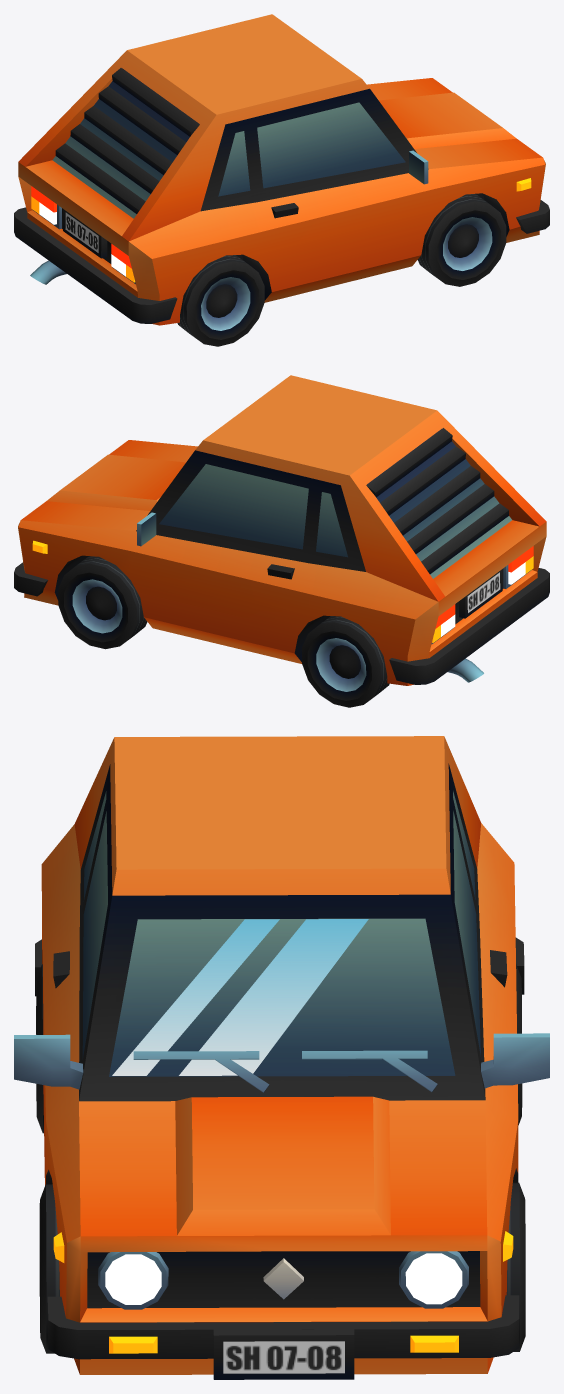
3 renders of one model, top to bottom at view 1: azimuth 30°, elevation 25°; view 2: azimuth 150°, elevation 25°; view 3: azimuth 270°, elevation 25°, orthographic. The views are drawn at different scales.
Visible parts, largest first — view 1: SHTV_Model_Car_Hatchback; view 2: SHTV_Model_Car_Hatchback; view 3: SHTV_Model_Car_Hatchback.
Boxes of the visible parts, box(x1,y1,x2,y2) form: SHTV_Model_Car_Hatchback: box(14, 14, 549, 346); SHTV_Model_Car_Hatchback: box(14, 375, 549, 707); SHTV_Model_Car_Hatchback: box(14, 736, 549, 1379).
Bounding box in the file's own units: 1.71 × 0.7881 × 0.9641.
2 materials, 2 textured.
